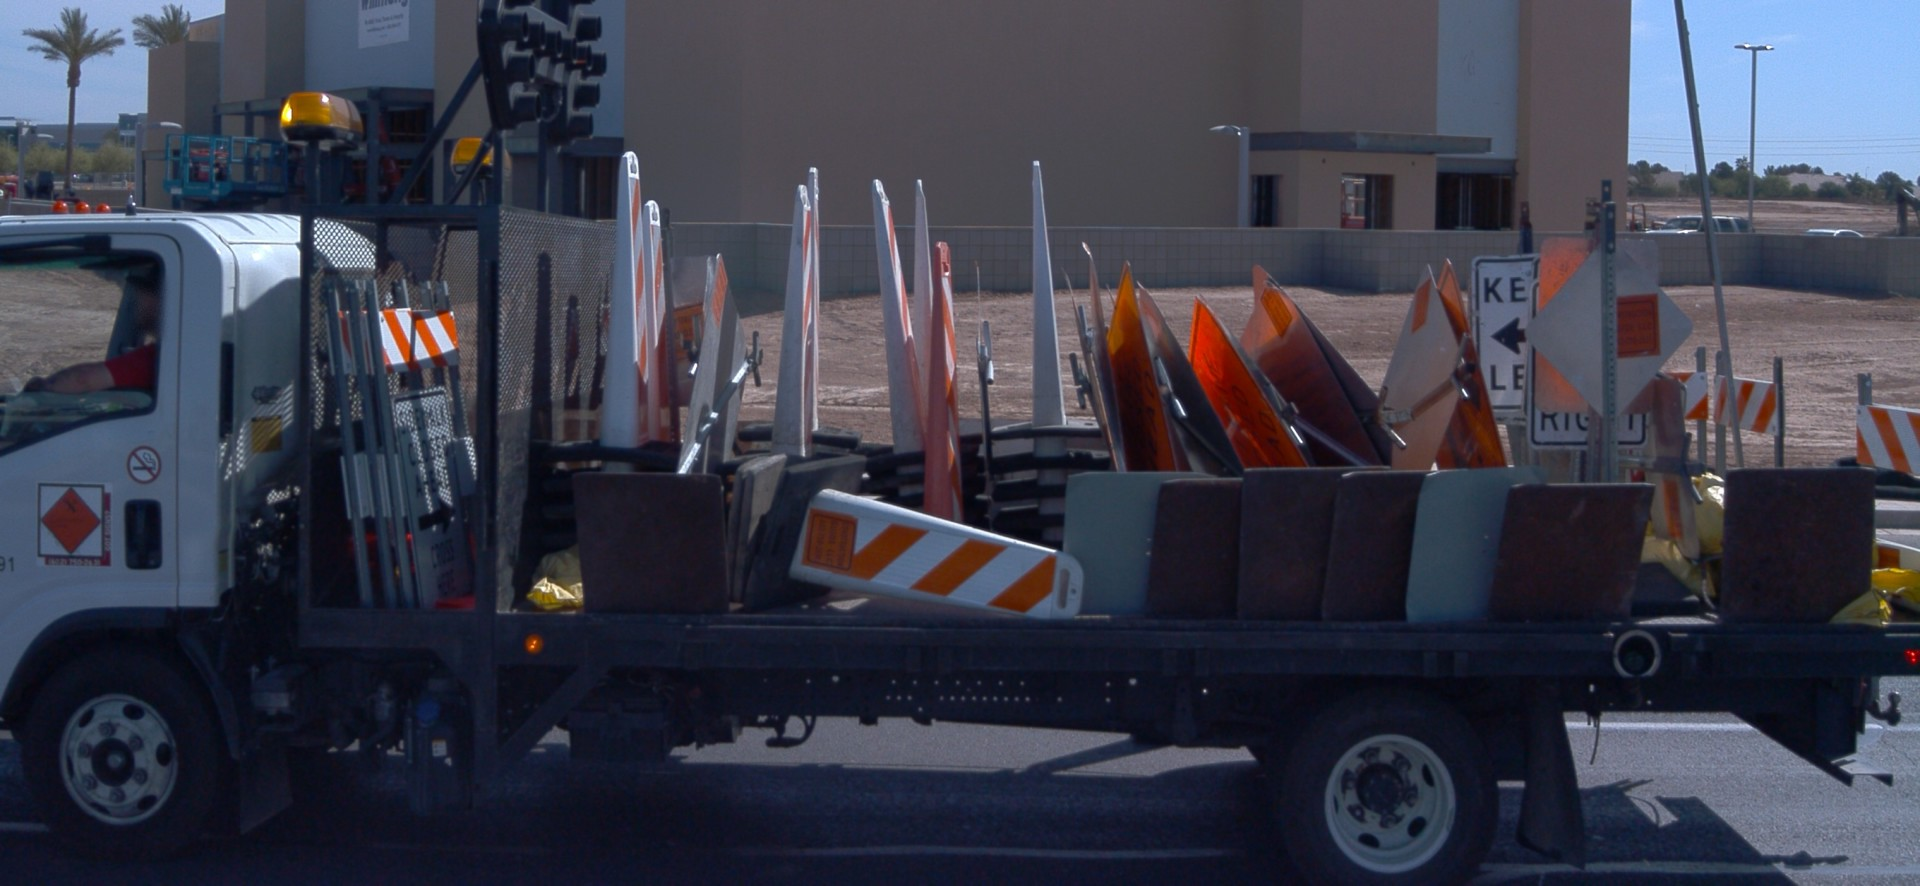TYPE_VEHICLE: (1, 0, 1920, 878), (1645, 216, 1758, 235), (1625, 199, 1666, 230), (1802, 228, 1864, 238)
